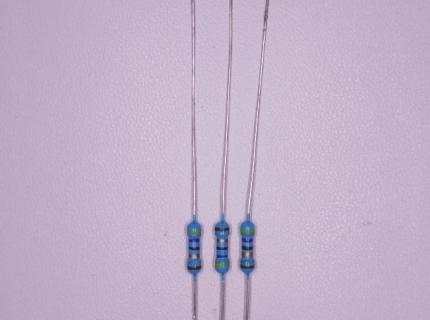Black band: (241, 245, 253, 251), (216, 246, 228, 251), (188, 247, 200, 251)
Brown band: (187, 265, 202, 271), (240, 264, 256, 269), (214, 227, 229, 232)
Gold band: (242, 251, 253, 257), (189, 253, 200, 258), (216, 239, 228, 243)
Violet band: (241, 238, 253, 243), (216, 255, 228, 259), (188, 239, 200, 243)
Yellow band: (240, 229, 255, 234), (186, 230, 201, 235), (214, 262, 229, 267)
